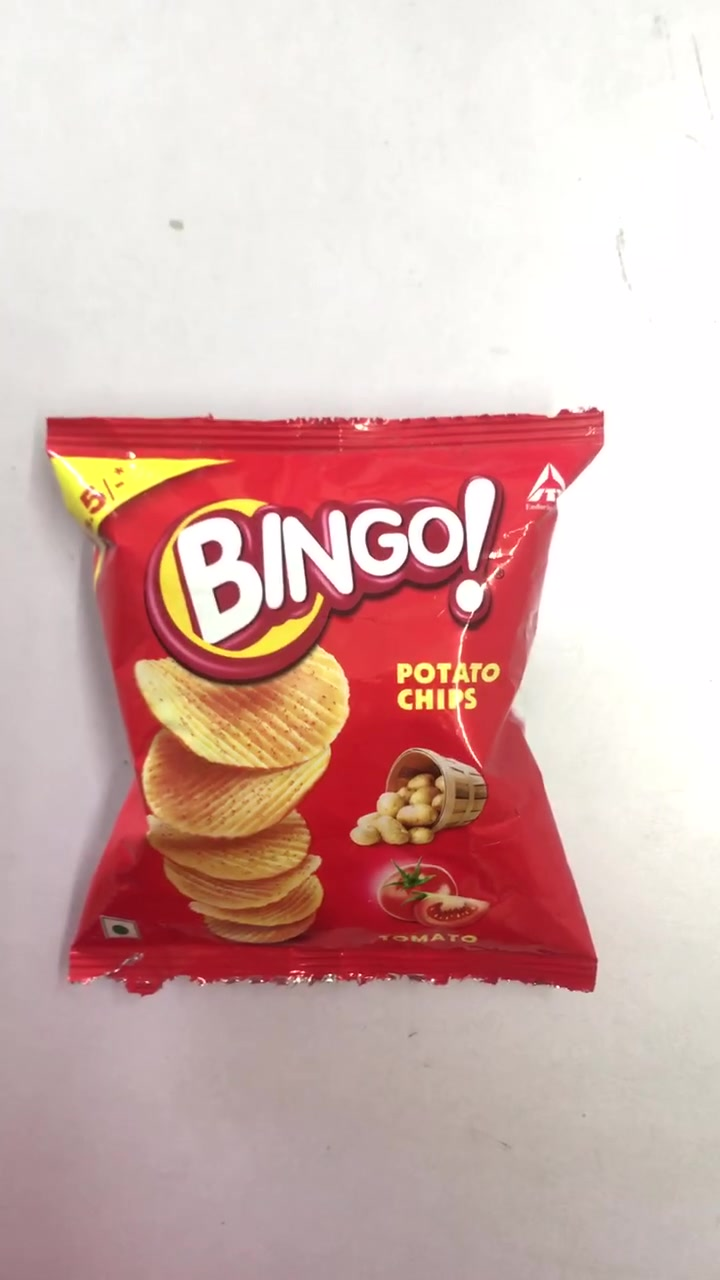Bingo: (45, 418, 598, 981)
